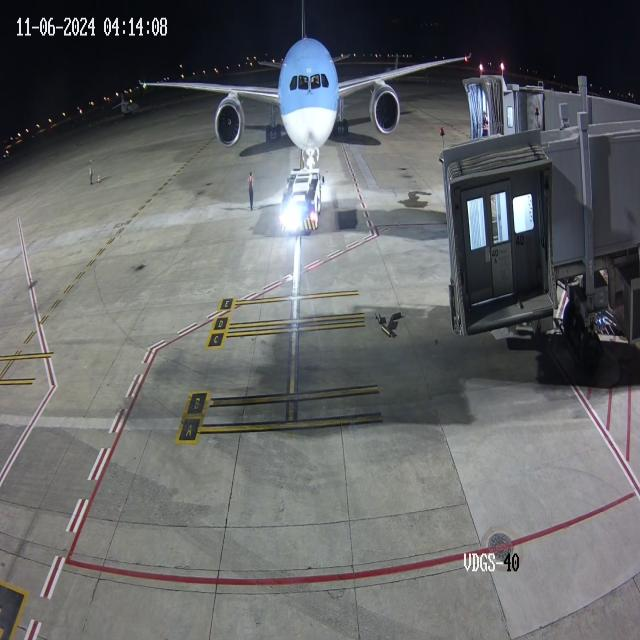bridge: (486, 75, 544, 142)
plane: (118, 5, 434, 165)
window: (287, 66, 333, 100)
